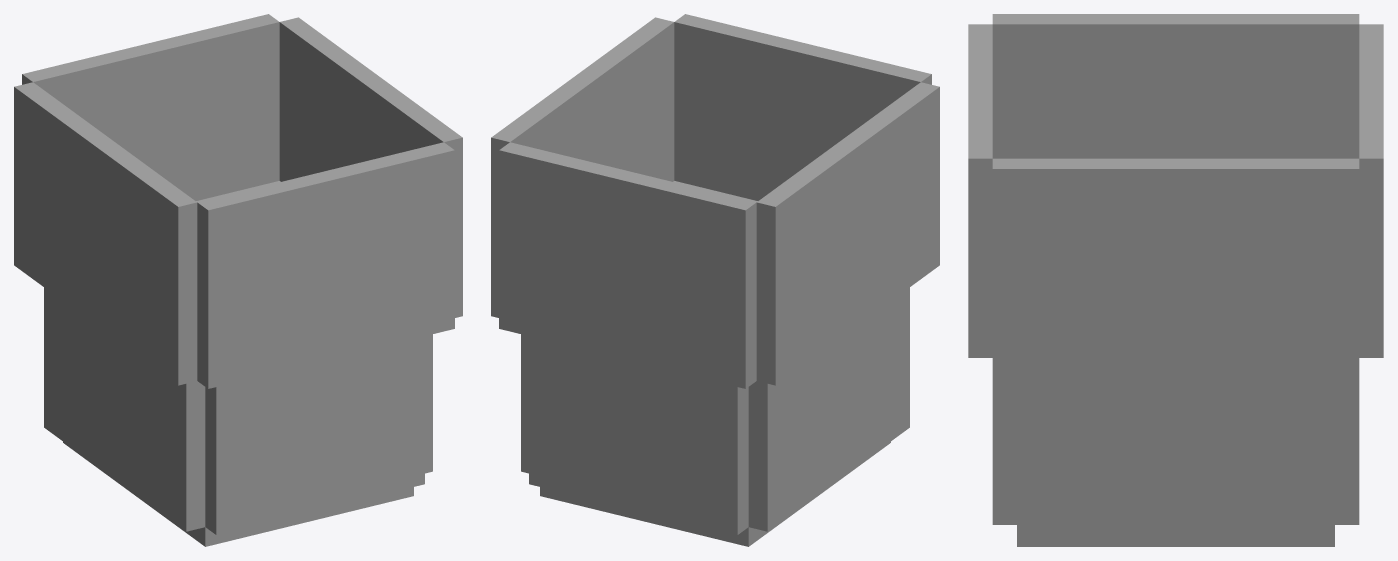
The model's file is SchoolPack-51-dustman.obj.
3 renders of one model, left to right at view 1: azimuth 30°, elevation 25°; view 2: azimuth 150°, elevation 25°; view 3: azimuth 270°, elevation 25°, orthographic. The views are drawn at different scales.
Visible parts, largest first — view 1: dustman; view 2: dustman; view 3: dustman.
Part boxes in pixels (<box>): dustman: <box>14,14,462,546</box>; dustman: <box>491,14,939,546</box>; dustman: <box>968,14,1383,546</box>.
Size of the model in its own units: 1.5 by 1.8 by 1.7.
1 material, 1 textured.
